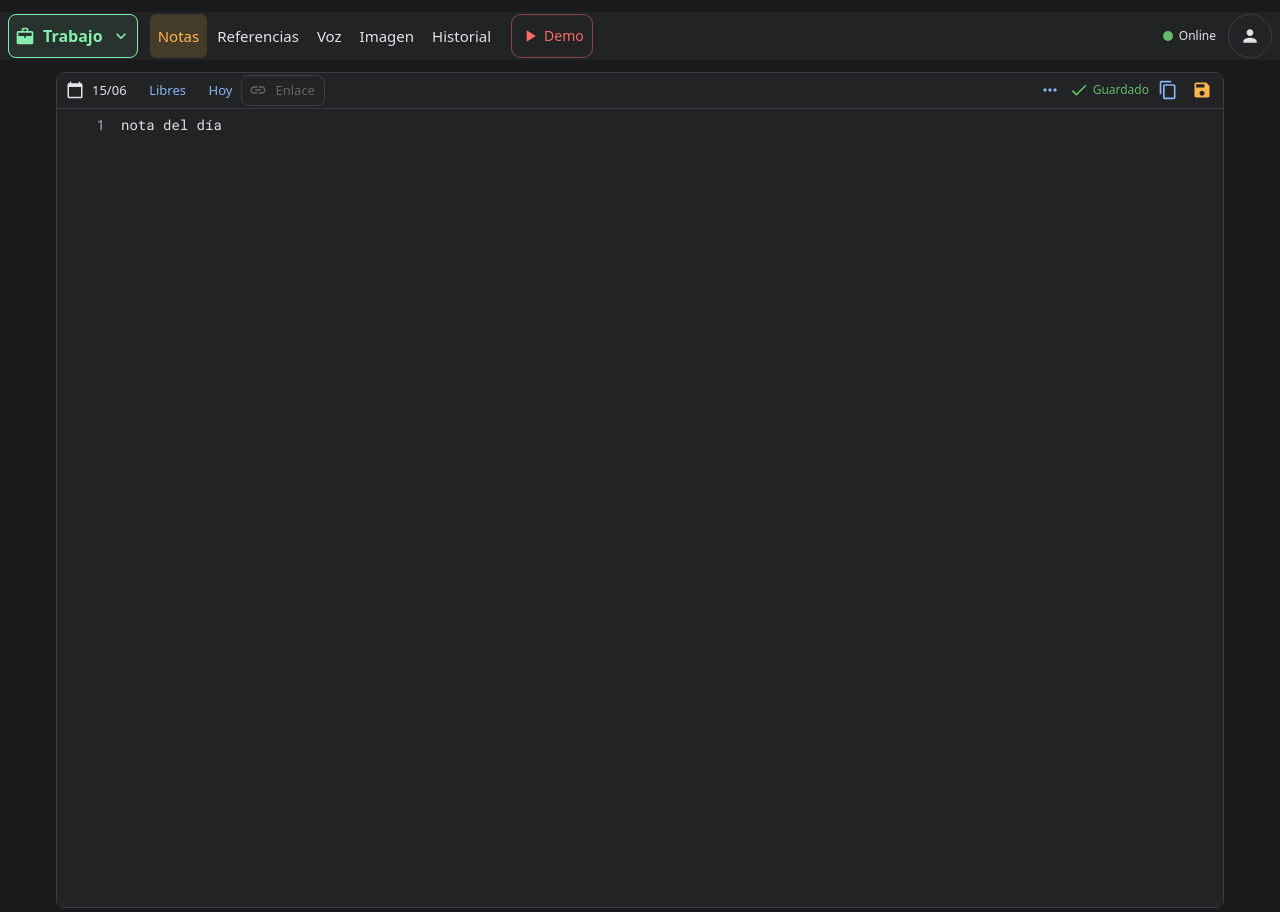
Notas · una sola barra de herramientas (UI-05) › el botón de enlace explica su uso en un tooltip
Expected: the field named "Editor de nota diaria" reads "nota del día", [121,115,222,134]
Hover over the element showing "Enlace" at point(283, 90), box [242,75,325,106]
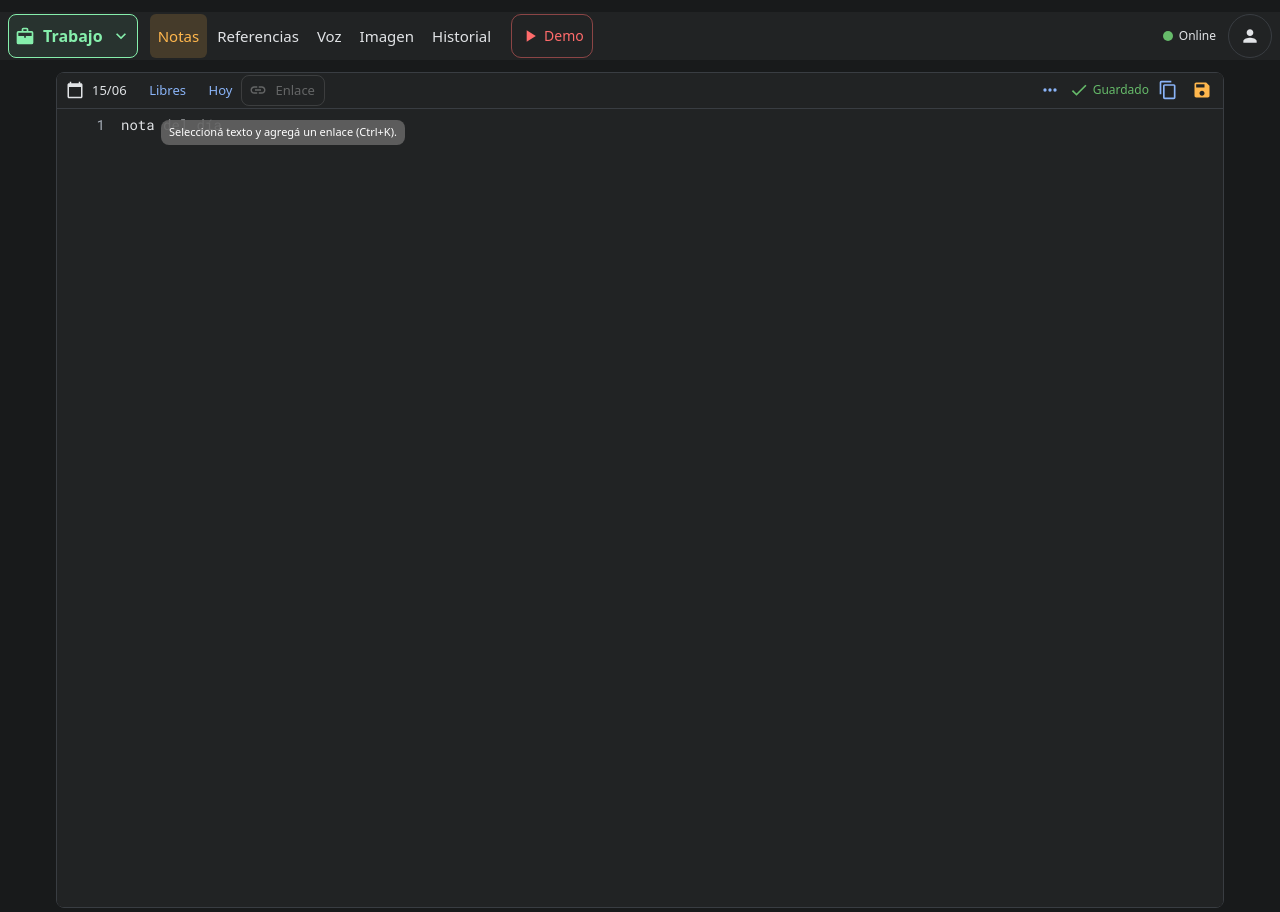
Now the tooltip reads "Seleccioná texto y agregá un enlace (Ctrl+K).", box [169,124,397,139]
